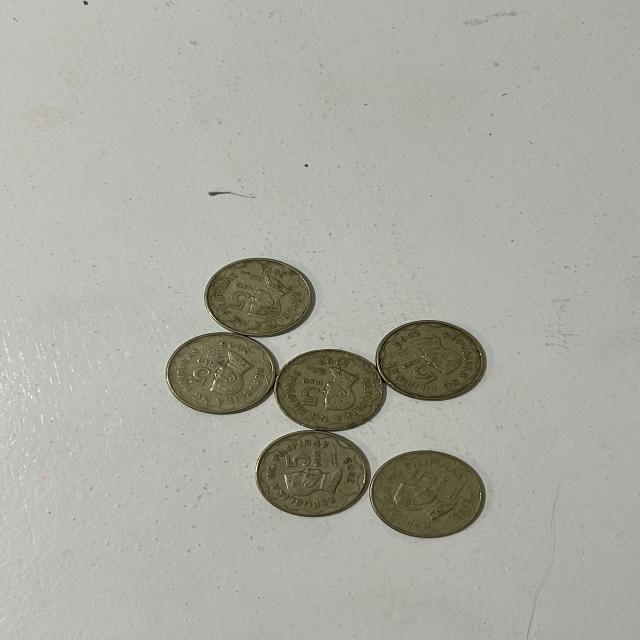5_Old_Front: (392, 355, 442, 402), (179, 354, 225, 388), (282, 442, 328, 475), (220, 278, 260, 314), (413, 462, 449, 498), (298, 374, 326, 410)
